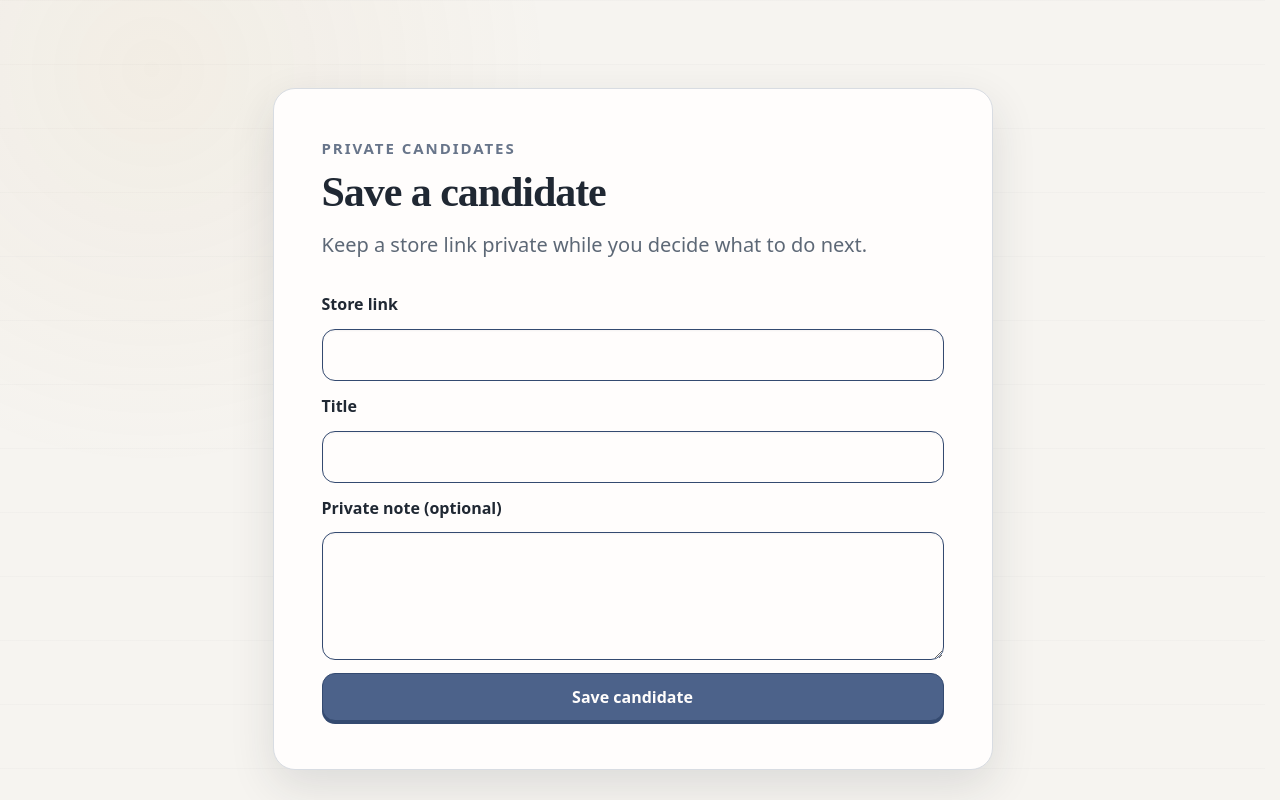
it: candidate private routes › saves a normalized private candidate through the client boundary
In the field labelled "Store link": (632, 355) [322,329,944,381], type "https://example.com/oak"
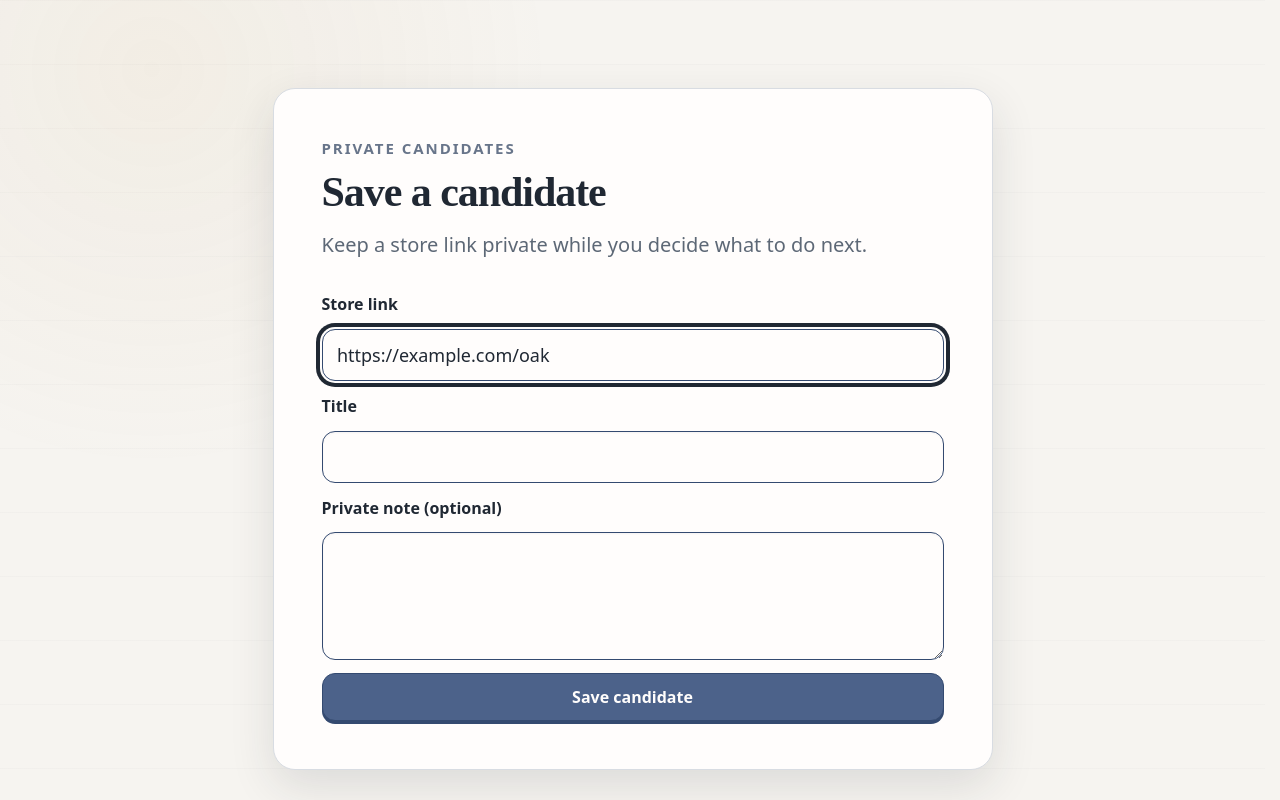
In the field labelled "Title": (632, 457) [322,431,944,483], type "Oak Antiques"
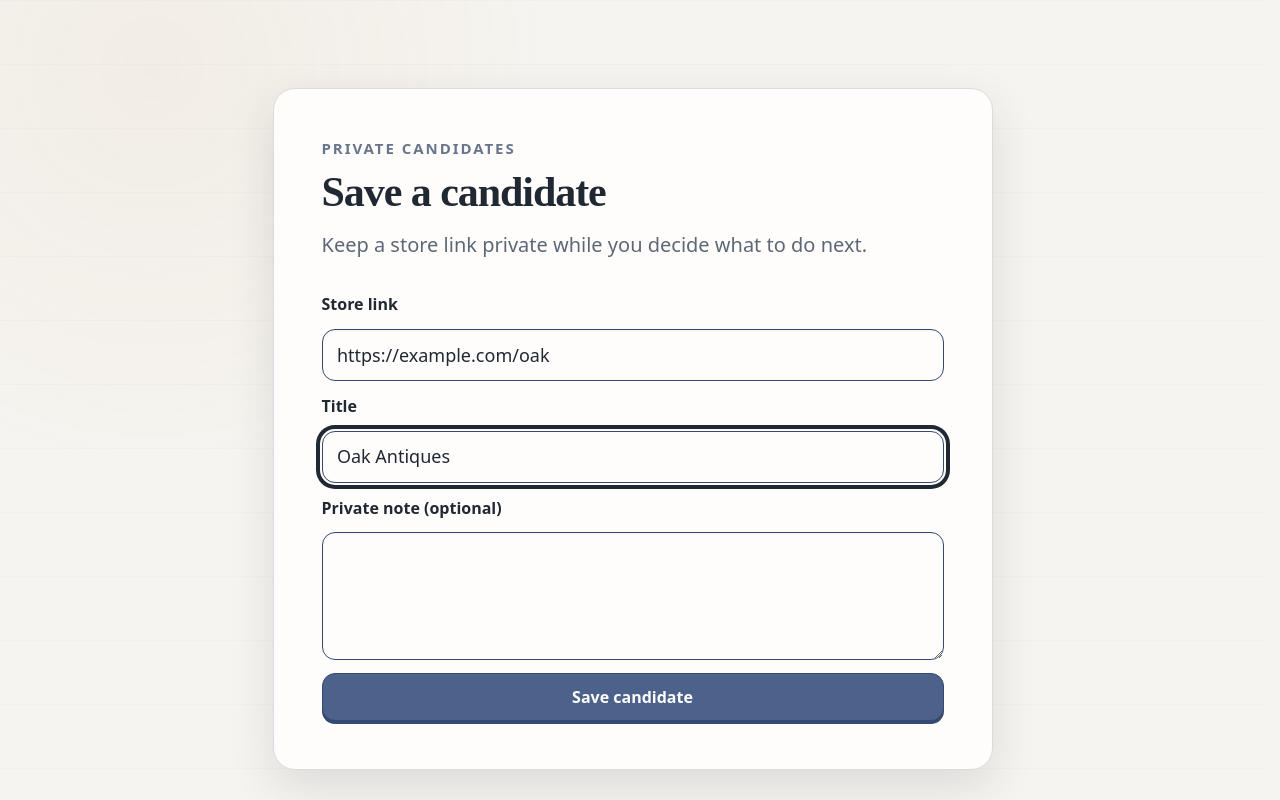
Click the button "Save candidate": (632, 697) [322,673,944,721]
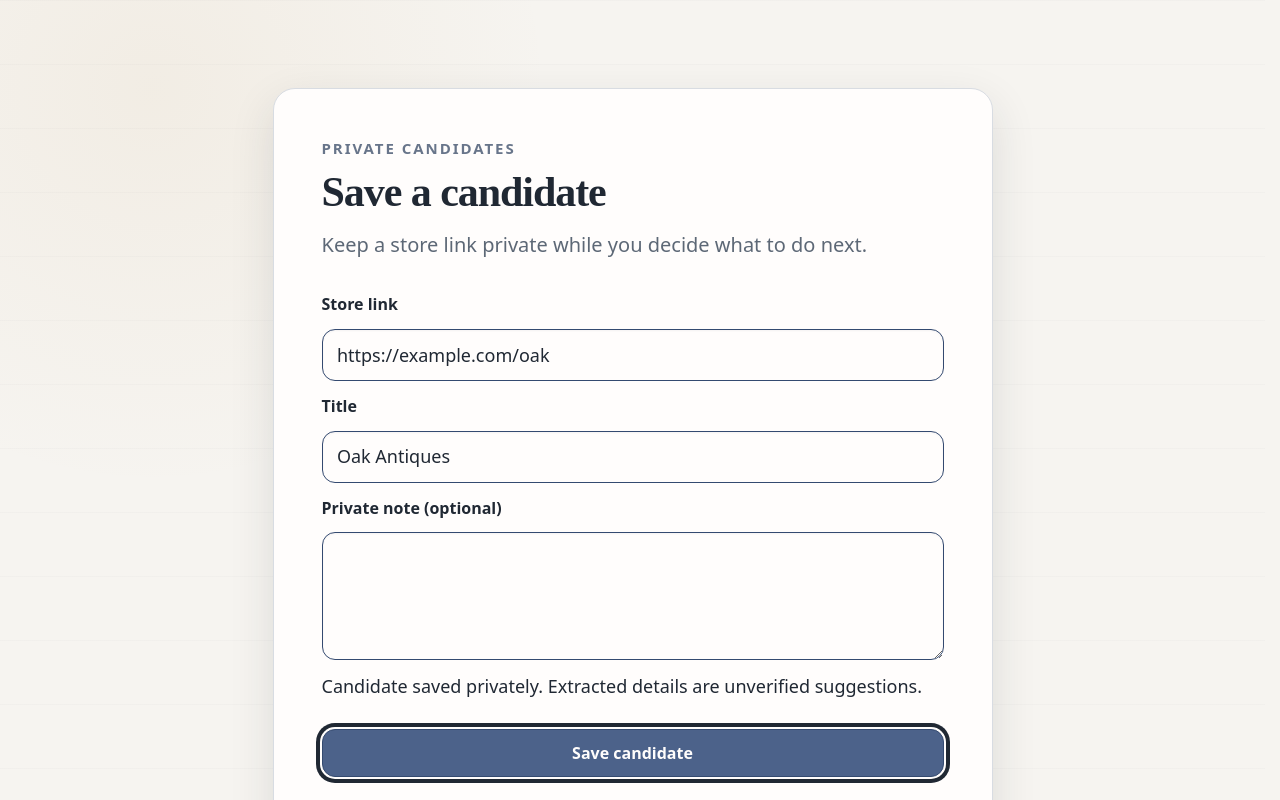
Expected: the message shows "saved privately", [322,674,922,698]
